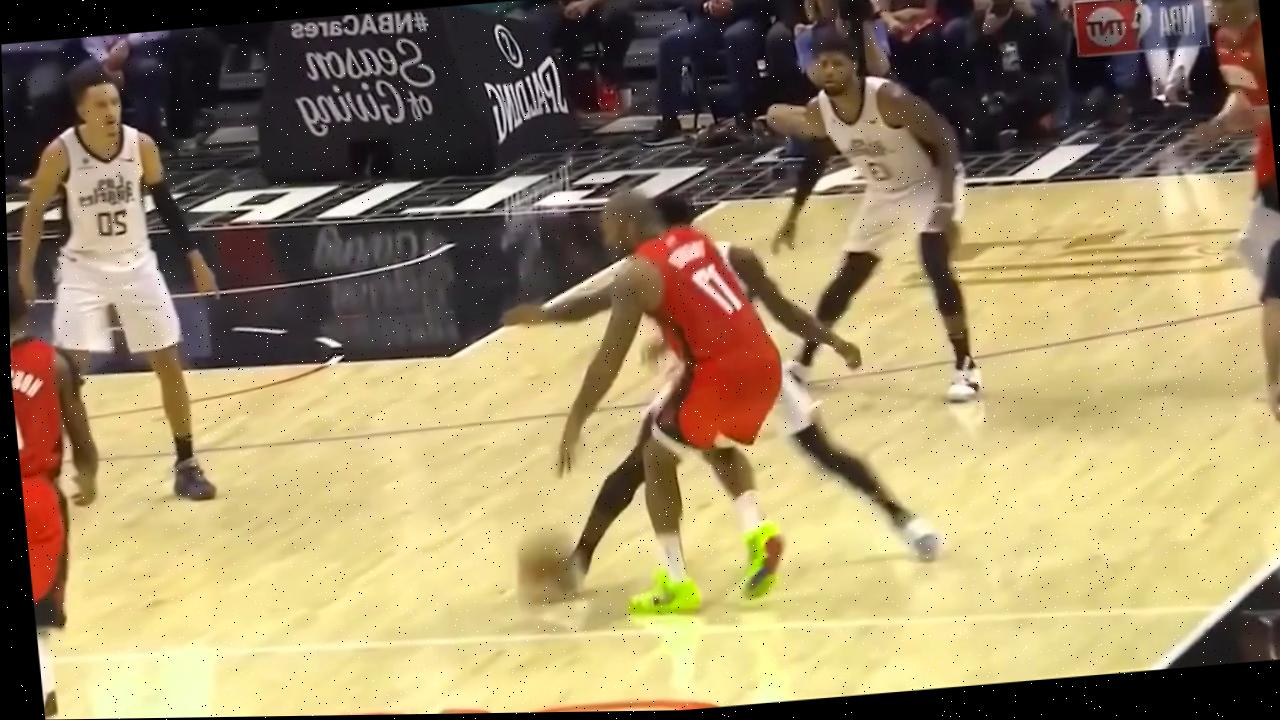no_foul: (477, 163, 919, 619)
